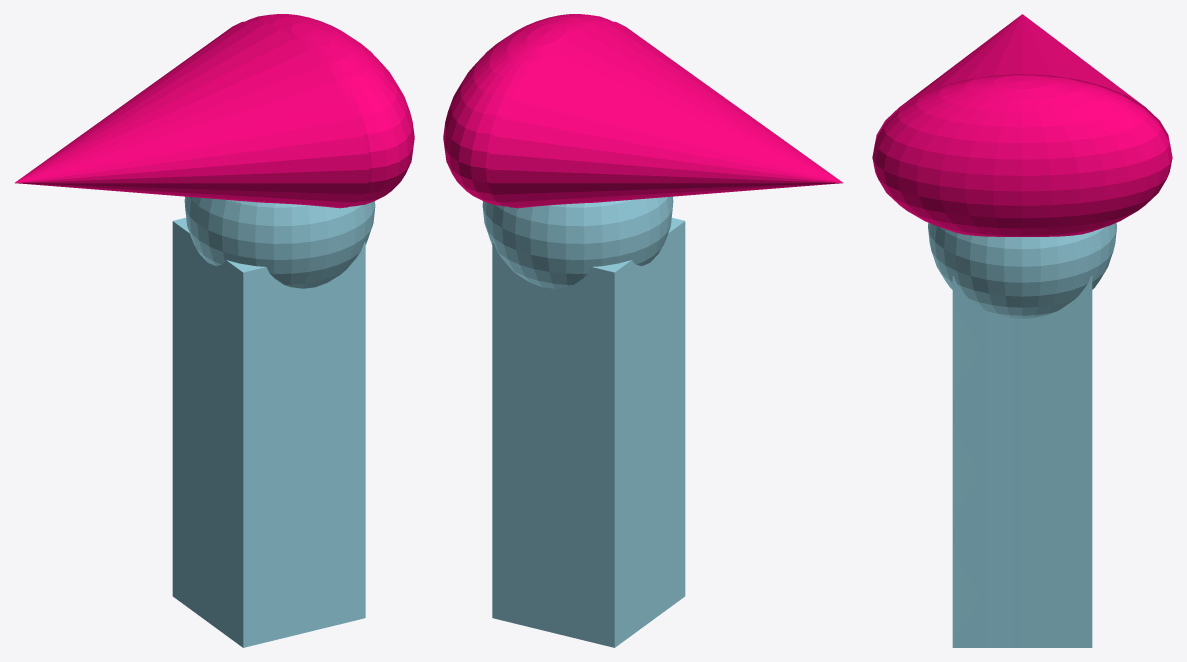
File: player_right_arm_up.obj
The picture shows the model from 3 angles, left to right: view 1: azimuth 30°, elevation 25°; view 2: azimuth 150°, elevation 25°; view 3: azimuth 270°, elevation 25°; orthographic projection.
Visible parts, largest first — view 1: 立方體.002, 圓錐體, 球體.001_球體.002, 球體; view 2: 立方體.002, 圓錐體, 球體.001_球體.002, 球體; view 3: 立方體.002, 球體, 球體.001_球體.002, 圓錐體.
Boxes of the visible parts, left/top/right/bottom form: 立方體.002: left=172, top=217, right=365, bottom=647; 圓錐體: left=15, top=21, right=369, bottom=208; 球體.001_球體.002: left=184, top=196, right=375, bottom=288; 球體: left=245, top=14, right=414, bottom=206; 立方體.002: left=492, top=217, right=685, bottom=647; 圓錐體: left=488, top=21, right=842, bottom=208; 球體.001_球體.002: left=482, top=196, right=673, bottom=288; 球體: left=443, top=14, right=612, bottom=206; 立方體.002: left=952, top=276, right=1092, bottom=647; 球體: left=872, top=75, right=1172, bottom=236; 球體.001_球體.002: left=928, top=223, right=1116, bottom=318; 圓錐體: left=873, top=14, right=1171, bottom=149.
Bounding box in the file's own units: 1.23 × 1.81 × 0.8813.
4 materials, 4 textured.
